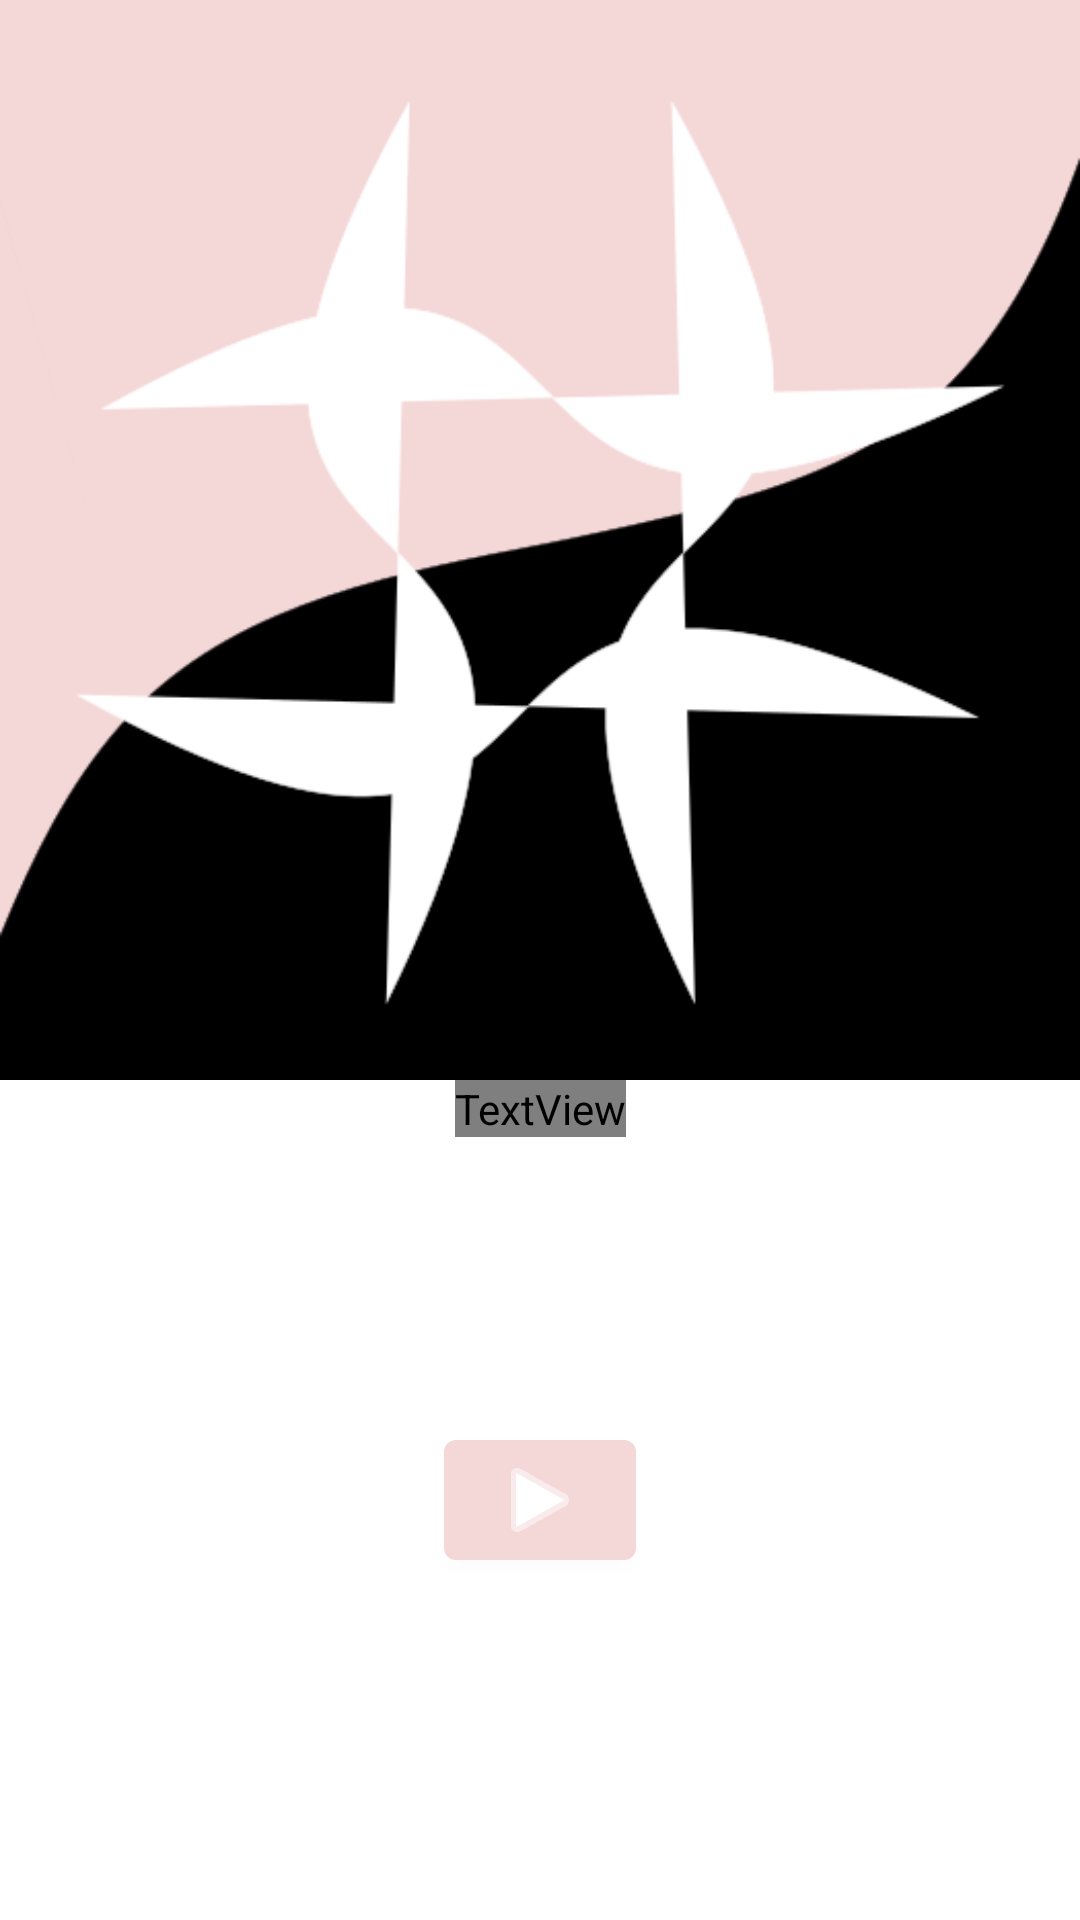

Screen size 1080×1920. Icon name, then its box in pixels as (x1, y1, x2, y2):
Start: (444, 1440, 636, 1560)
